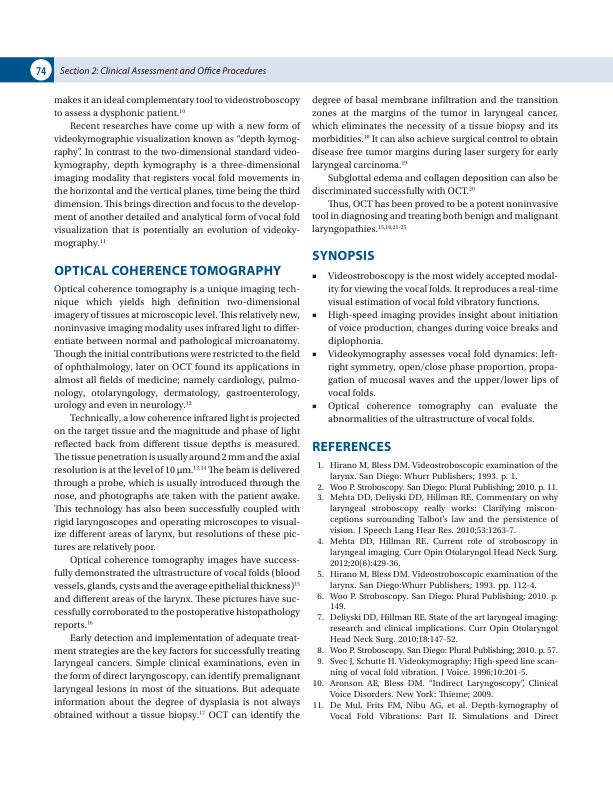header: (59, 66, 267, 75)
list: (312, 459, 560, 721), (309, 270, 561, 423)
section-heading: (54, 264, 282, 277), (312, 440, 392, 452), (312, 249, 375, 262)
text: (52, 283, 301, 721), (54, 95, 301, 250), (311, 94, 560, 236)
